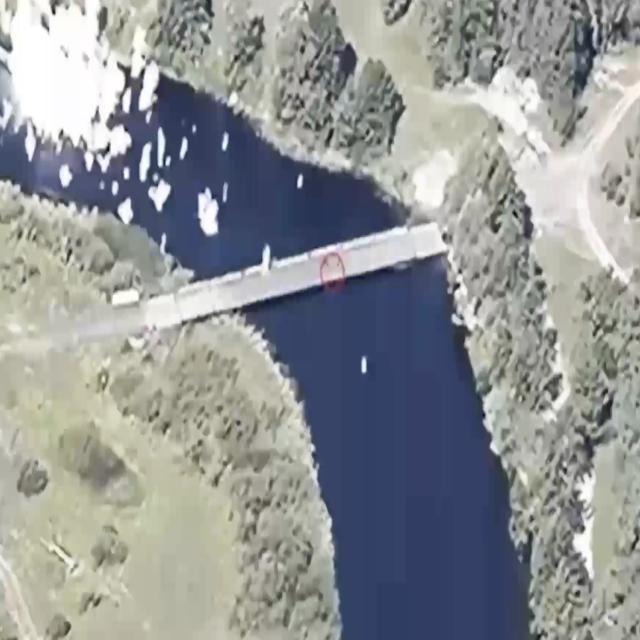fortification: (148, 220, 448, 332)
